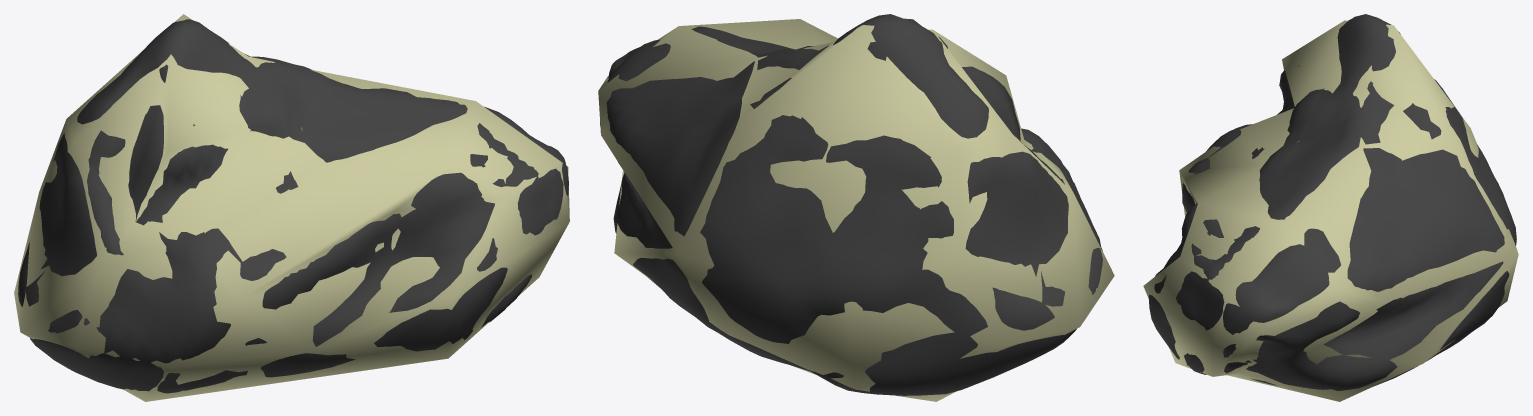
Rendered from ore_3.fbx.
The picture shows the model from 3 angles, left to right: view 1: azimuth 30°, elevation 25°; view 2: azimuth 150°, elevation 25°; view 3: azimuth 270°, elevation 25°; orthographic projection. The views are drawn at different scales.
Visible parts, largest first — view 1: UTM_MetalOre, MetalOre_LOD0; view 2: MetalOre_LOD0, UTM_MetalOre; view 3: MetalOre_LOD0, UTM_MetalOre.
Boxes of the visible parts, bbox=[...] form: UTM_MetalOre: bbox=[14, 14, 569, 401]; MetalOre_LOD0: bbox=[18, 19, 568, 393]; MetalOre_LOD0: bbox=[600, 14, 1102, 395]; UTM_MetalOre: bbox=[598, 19, 1114, 401]; MetalOre_LOD0: bbox=[1148, 14, 1516, 390]; UTM_MetalOre: bbox=[1143, 20, 1518, 401].
Size of what is drawn, in the model's own units: 116 by 75.65 by 81.95.
